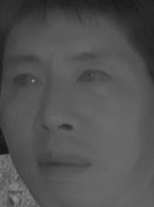eye: (75, 65, 113, 91), (12, 69, 45, 91)
mouth: (32, 144, 93, 180)
